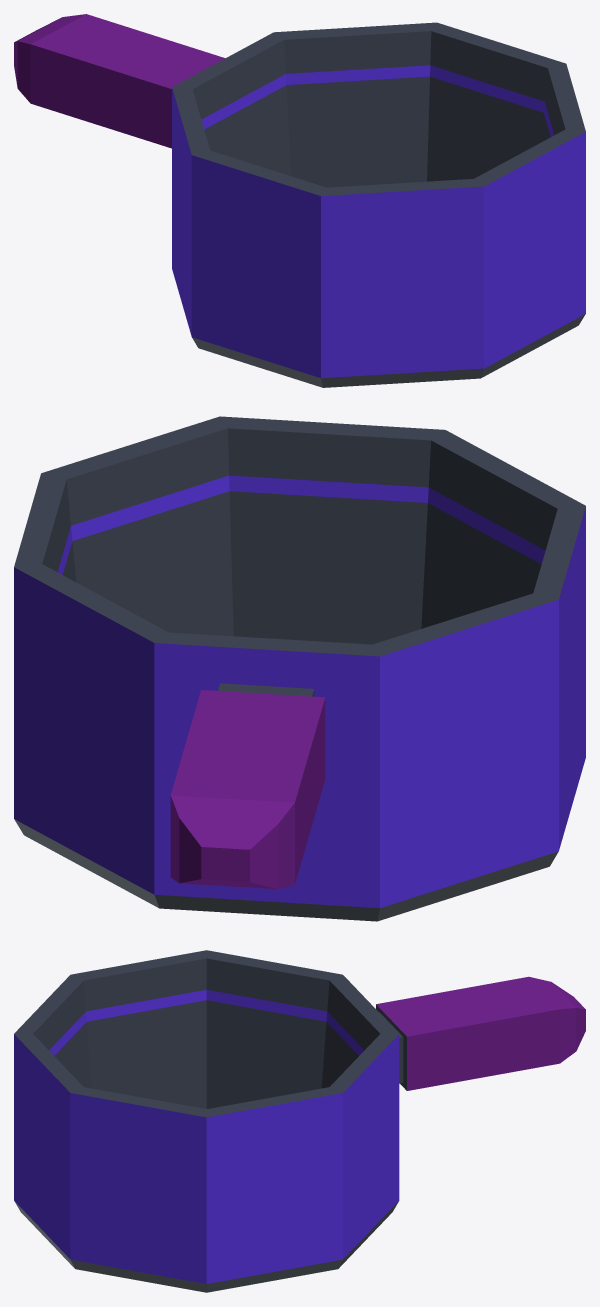
File: Kitchen_Utensil_Pot.fbx
The picture shows the model from 3 angles, top to bottom: view 1: azimuth 30°, elevation 25°; view 2: azimuth 150°, elevation 25°; view 3: azimuth 270°, elevation 25°; orthographic projection. The views are drawn at different scales.
Visible parts, largest first — view 1: Cylinder.050; view 2: Cylinder.050; view 3: Cylinder.050.
Part boxes in pixels (box(x1,y1,x2,y2)): Cylinder.050: box(14, 14, 585, 387); Cylinder.050: box(14, 416, 585, 921); Cylinder.050: box(14, 950, 585, 1292).
Size of the model in its own units: 28.78 by 14.3 by 41.59.
